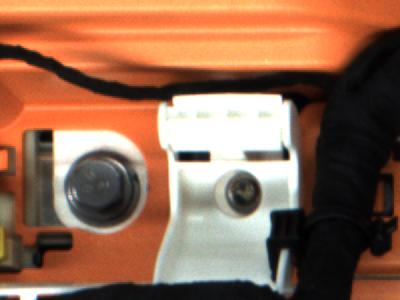nut_b: (57, 154, 151, 223)
screw_m: (218, 171, 271, 216)
